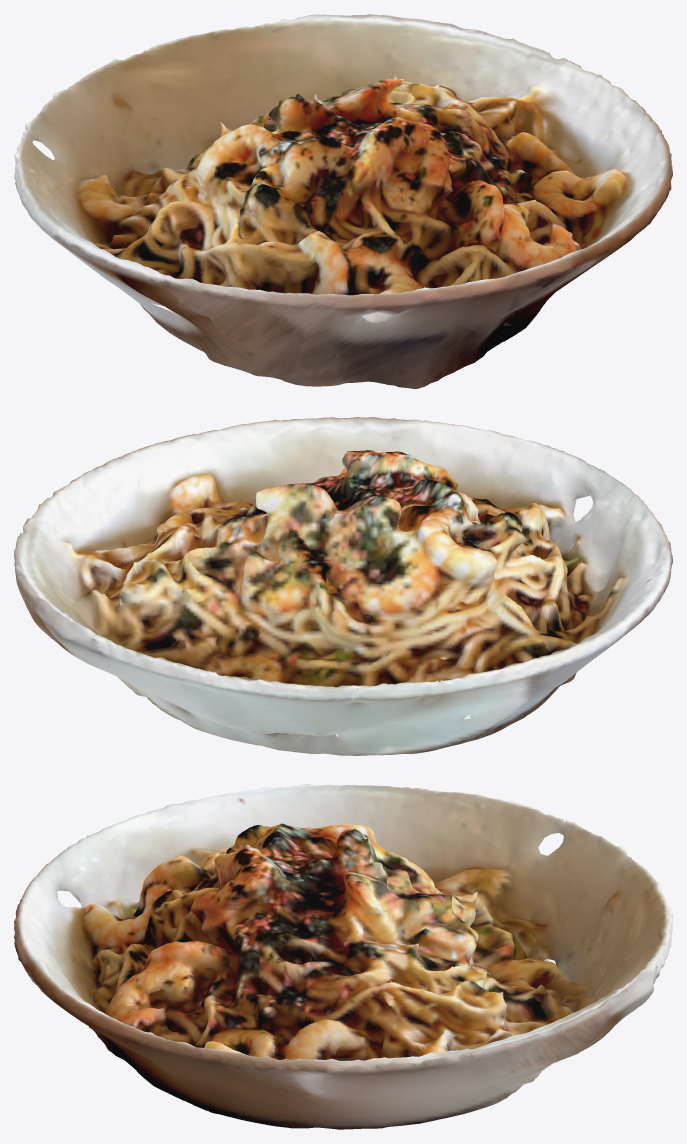
File: prawn_noodles.glb
3 views of the same model, one above another, from view 1: azimuth 30°, elevation 25°; view 2: azimuth 150°, elevation 25°; view 3: azimuth 270°, elevation 25° (orthographic).
Visible parts, largest first — view 1: mesh_main_0 (×2); view 2: mesh_main_0 (×2); view 3: mesh_main_0 (×2).
Boxes of the visible parts, <box> form: mesh_main_0 (×2): <box>14,14,672,388</box>; mesh_main_0 (×2): <box>14,417,672,755</box>; mesh_main_0 (×2): <box>14,784,672,1129</box>.
Bounding box in the file's own units: 0.2335 × 0.0738 × 0.2311.
Materials: 1 (1 with a texture image).
